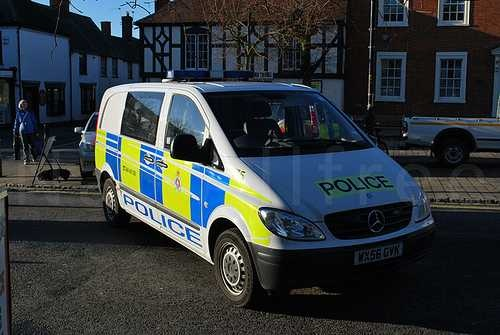Police Car: (79, 41, 438, 322)
